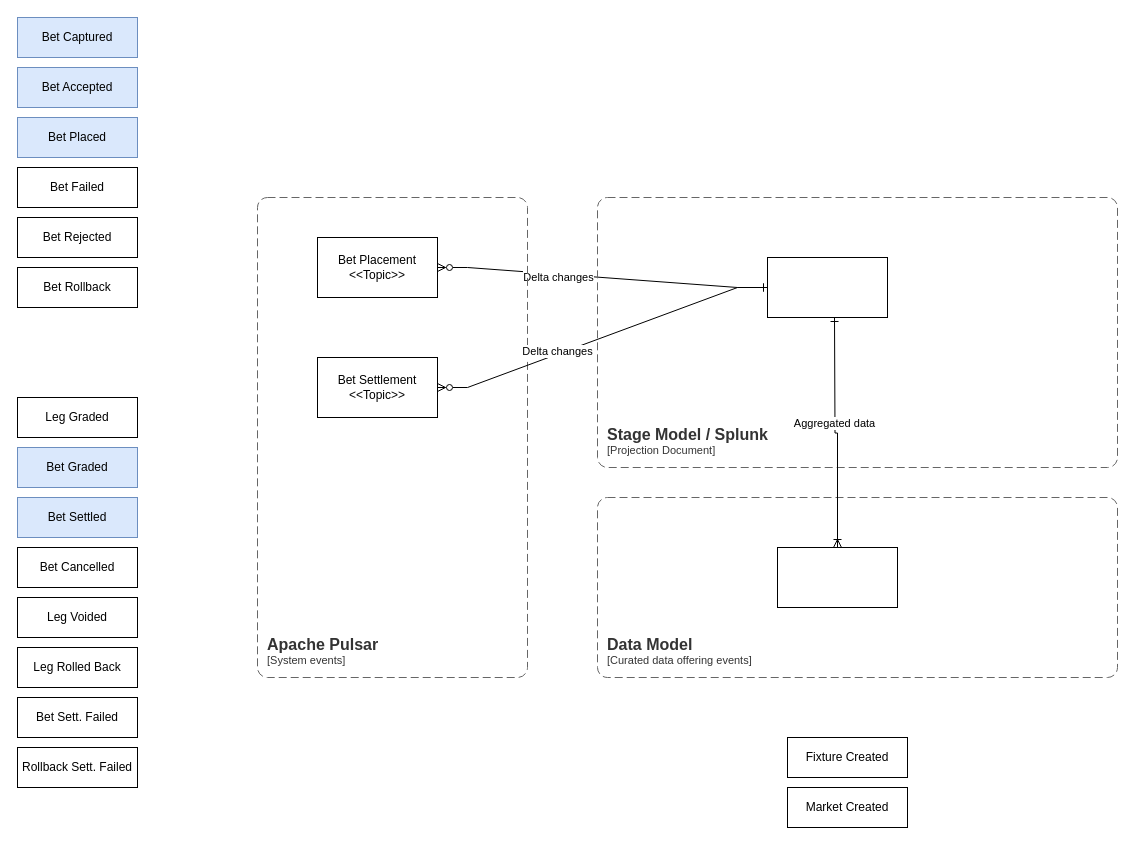
Some shapes in this 1135 by 845 pixel diagram are drawn without their labels. Here are the shapes that lost their labels. From the top down, the centre of each, then its label:
[827,287]: EnrichedBet <<JSON>>
[837,577]: Offering <<Table>>
